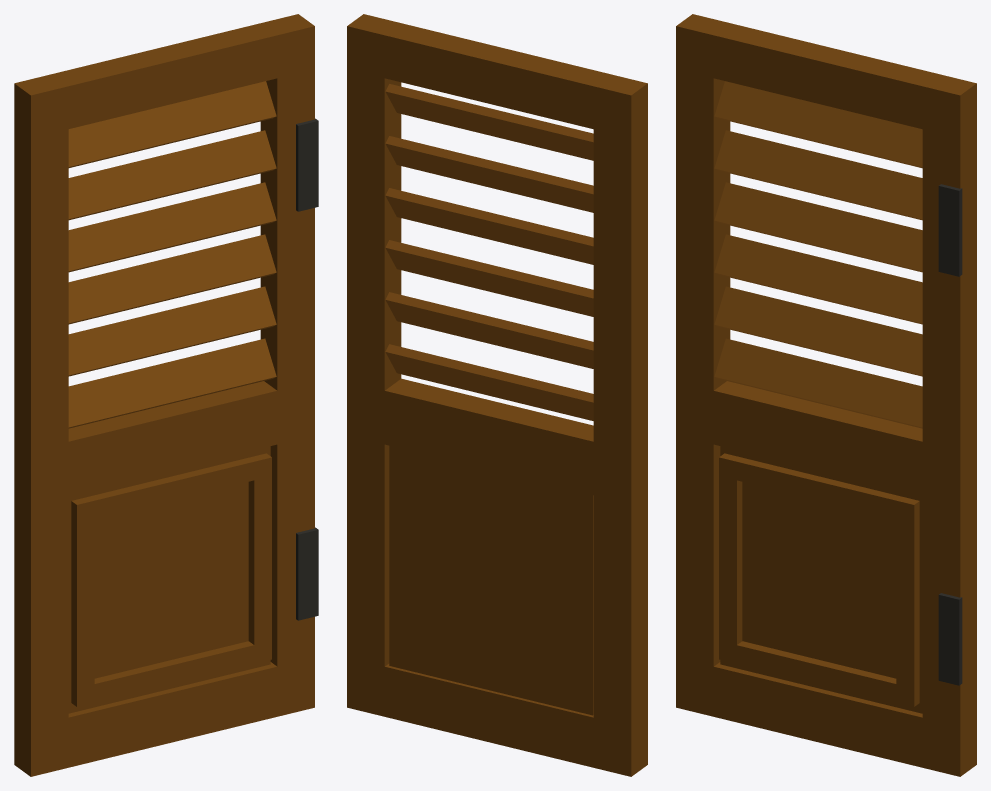
The model's file is SM_Wall_PhWindowShutter_Right_01.fbx.
3 views of the same model, side by side, from view 1: azimuth 30°, elevation 25°; view 2: azimuth 150°, elevation 25°; view 3: azimuth 330°, elevation 25° (orthographic).
Parts seen in each view (by area): view 1: SM_Wall_PhWindowShutter_Right_01; view 2: SM_Wall_PhWindowShutter_Right_01; view 3: SM_Wall_PhWindowShutter_Right_01.
Boxes of the visible parts, left/top/right/bottom form: SM_Wall_PhWindowShutter_Right_01: left=14, top=14, right=318, bottom=776; SM_Wall_PhWindowShutter_Right_01: left=347, top=14, right=647, bottom=776; SM_Wall_PhWindowShutter_Right_01: left=676, top=14, right=976, bottom=776.
Size of the model in its own units: 0.417 by 0.951 by 0.048.
1 material, 1 textured.
